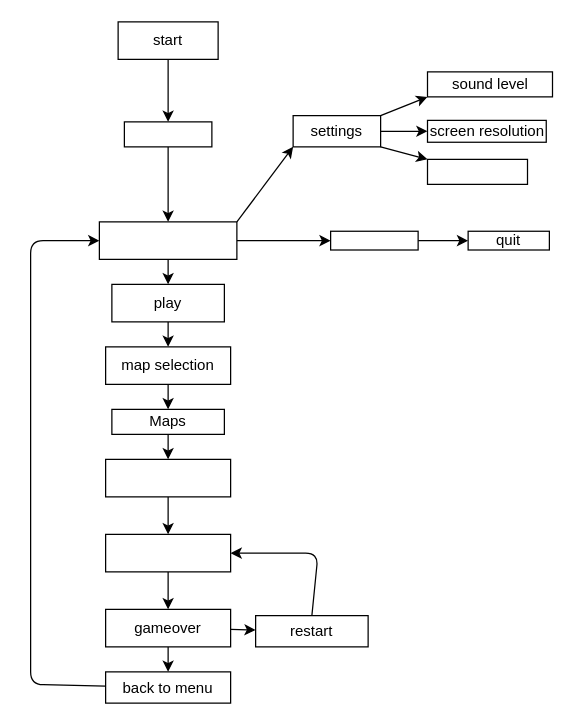
The diagram is 575 pixels wide and 725 high, and some of its shapes have lost their labels. The shapes that lost their labels are listed below. From the top down, each one's centre as x and y in pixels, then its label:
(x=167, y=134): run
(x=167, y=240): start_screen
(x=373, y=240): exit
(x=167, y=477): setup
(x=167, y=552): game logic
